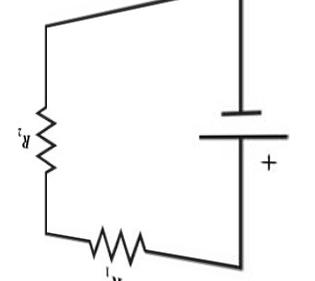Battery: (179, 84, 297, 181)
